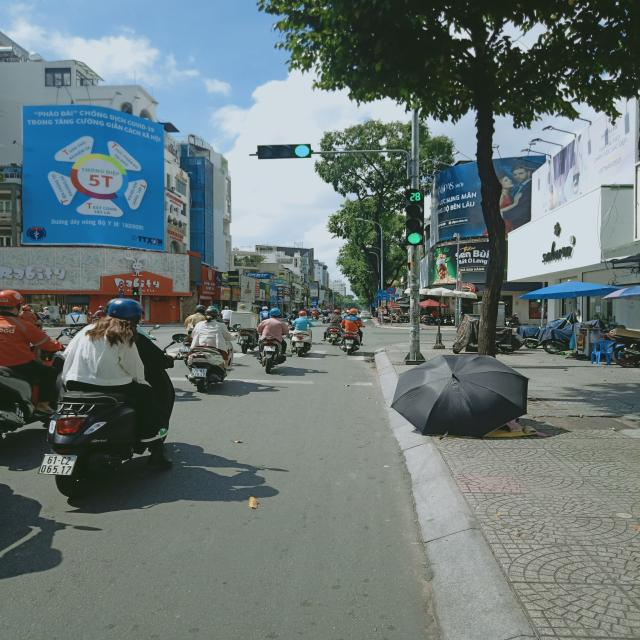Green: (399, 207, 429, 248), (254, 140, 313, 160)
